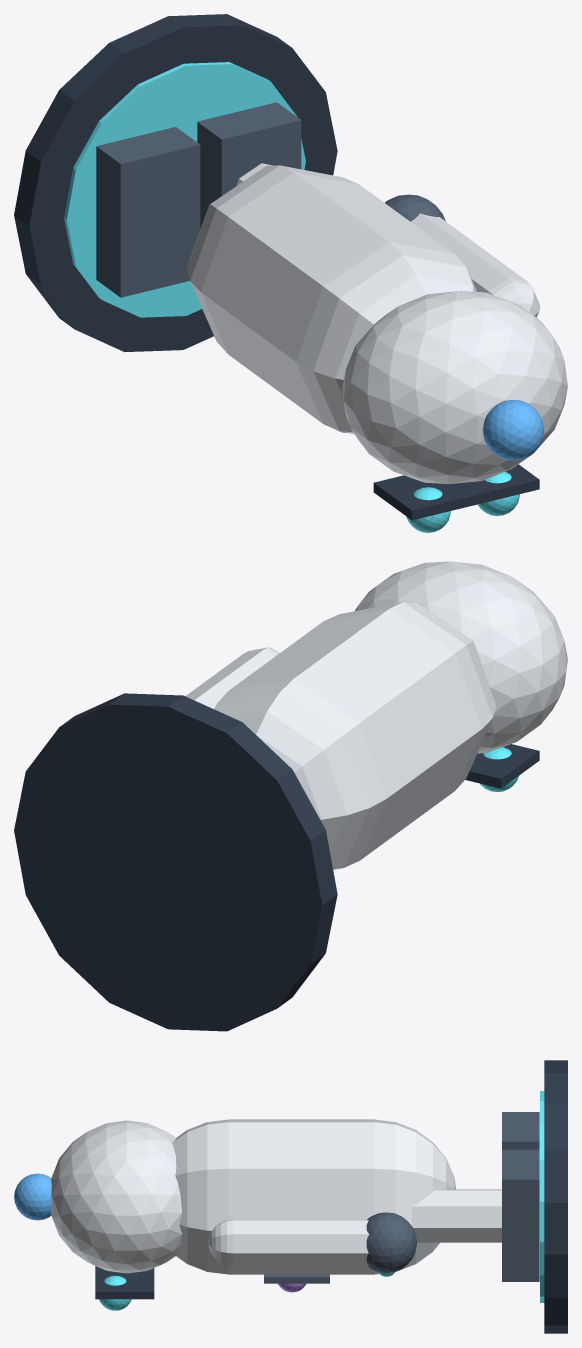
File: cybershield_robot_normal.glb
3 renders of one model, top to bottom at view 1: azimuth 30°, elevation 25°; view 2: azimuth 150°, elevation 25°; view 3: azimuth 270°, elevation 25°, orthographic. The views are drawn at different scales.
Visible parts, largest first — view 1: torso, head, stable_base, left_foot, base_glow, right_foot, face_panel, arm, head_crest, hand, eye_left, eye_right; view 2: stable_base, torso, head, arm, face_panel; view 3: torso, head, arm, stable_base, right_foot, leg, hand, face_panel, head_crest, left_foot, base_glow, chest_panel (+1 smaller).
Boxes of the visible parts, x1,y1,x2,y2 form: torso: [186, 165, 476, 434]; head: [342, 291, 567, 483]; stable_base: [14, 14, 337, 352]; left_foot: [96, 127, 200, 297]; base_glow: [64, 62, 305, 317]; right_foot: [197, 102, 301, 228]; face_panel: [373, 464, 539, 520]; arm: [410, 213, 540, 317]; head_crest: [482, 399, 543, 460]; hand: [385, 194, 445, 221]; eye_left: [406, 487, 450, 532]; eye_right: [477, 472, 519, 515]; stable_base: [14, 693, 337, 1031]; torso: [214, 602, 496, 869]; head: [355, 561, 567, 753]; arm: [185, 647, 279, 708]; face_panel: [465, 744, 539, 788]; torso: [172, 1119, 455, 1274]; head: [51, 1120, 181, 1273]; arm: [208, 1219, 369, 1265]; stable_base: [544, 1060, 567, 1333]; right_foot: [502, 1149, 539, 1281]; leg: [412, 1189, 501, 1242]; hand: [366, 1212, 416, 1273]; face_panel: [95, 1266, 154, 1299]; head_crest: [14, 1173, 51, 1220]; left_foot: [502, 1112, 539, 1149]; base_glow: [540, 1091, 544, 1302]; chest_panel: [264, 1274, 329, 1283].
Size of the model in its own units: 1.17 by 1.16 by 2.35.
